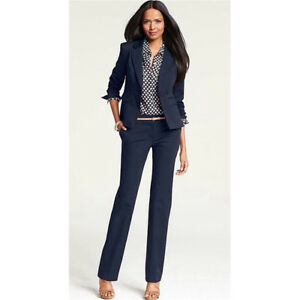F_W_suit jacket: (103, 43, 190, 127)
F_belt: (133, 114, 173, 125)
S_W_pants: (98, 127, 180, 282)
